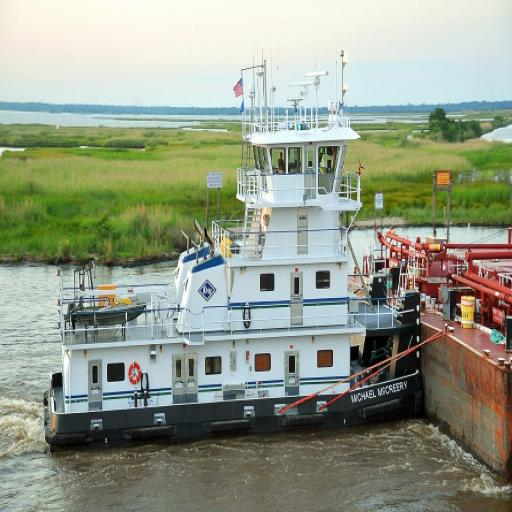tugboat: (43, 68, 425, 457)
